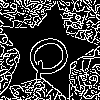Q: (21, 27, 82, 83)
